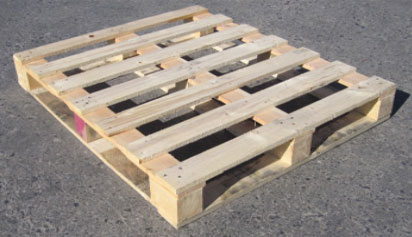pallet: (2, 7, 398, 230)
